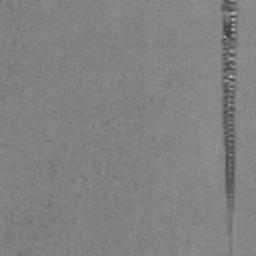Slag inclusion: (221, 0, 237, 210)
